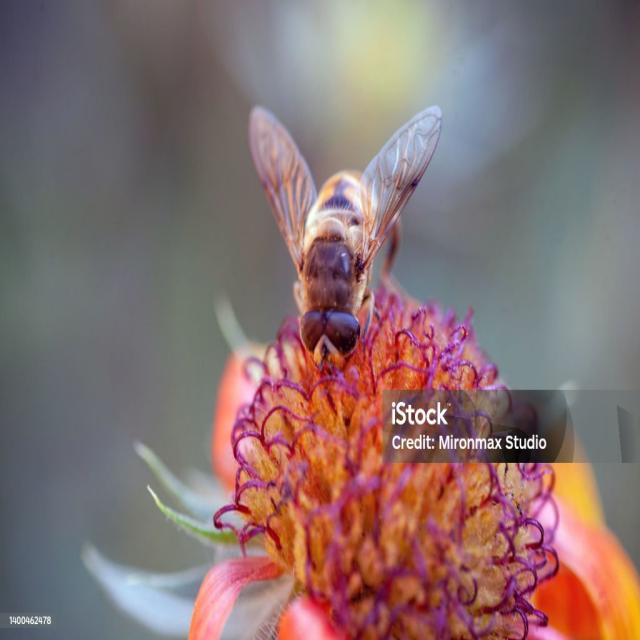hoverfly: (247, 97, 442, 376)
